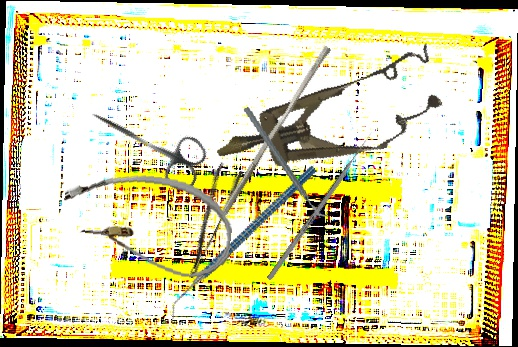Cannula: (56, 165, 238, 283)
Chopper: (135, 164, 349, 324), (242, 96, 330, 230)
Dressing Forceps: (170, 161, 246, 280)
Iris Scissors: (79, 91, 213, 196)
Pusher: (220, 41, 332, 220), (266, 130, 375, 282)
Speculum: (204, 42, 453, 196)
